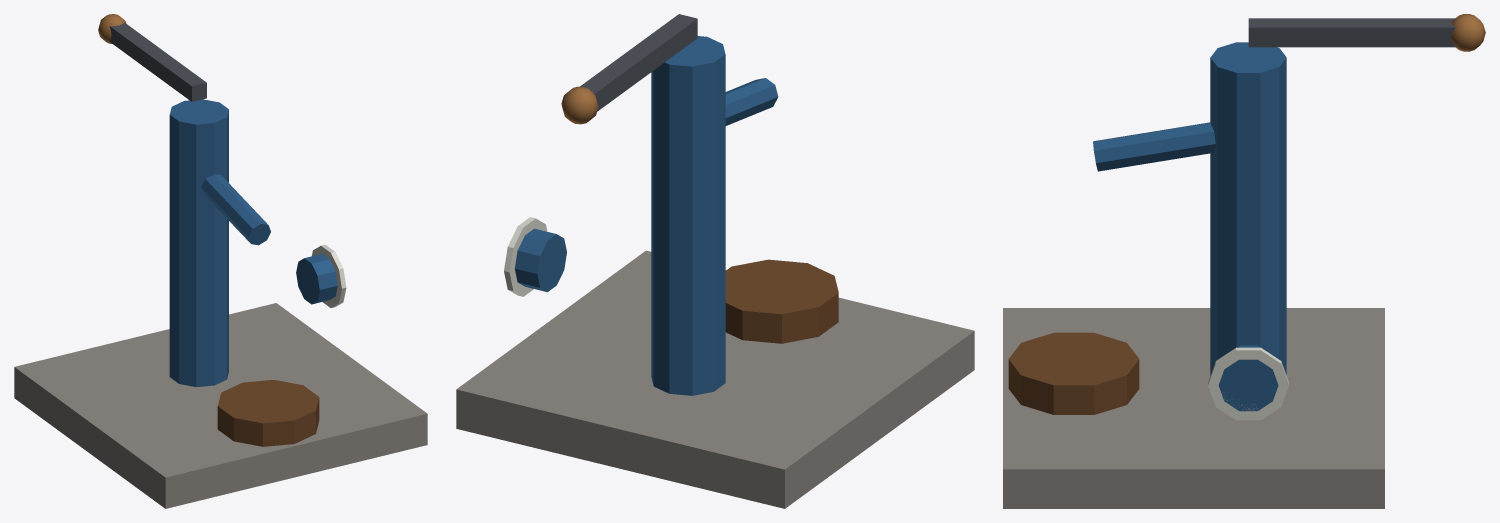
The model's file is WaterPump@Run.fbx.
3 renders of one model, left to right at view 1: azimuth 30°, elevation 25°; view 2: azimuth 150°, elevation 25°; view 3: azimuth 270°, elevation 25°, orthographic. The views are drawn at different scales.
Visible parts, largest first — view 1: WaterPump_Body, WaterPump_Handle; view 2: WaterPump_Body, WaterPump_Handle; view 3: WaterPump_Body, WaterPump_Handle.
Boxes of the visible parts, x1,y1,x2,y2 form: WaterPump_Body: (14, 99, 427, 508); WaterPump_Handle: (98, 14, 206, 101); WaterPump_Body: (456, 36, 974, 508); WaterPump_Handle: (561, 14, 697, 124); WaterPump_Body: (1003, 42, 1384, 508); WaterPump_Handle: (1248, 14, 1485, 51).
Size of the model in its own units: 0.7 by 0.835 by 0.885.
